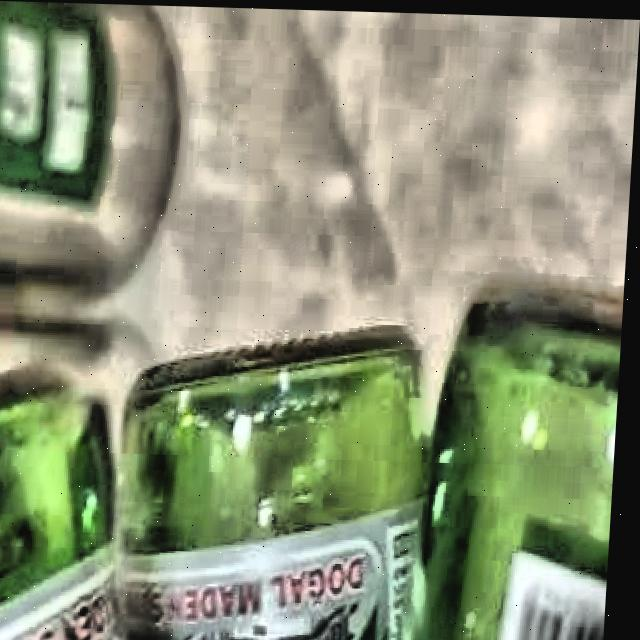glass: (0, 273, 627, 640)
